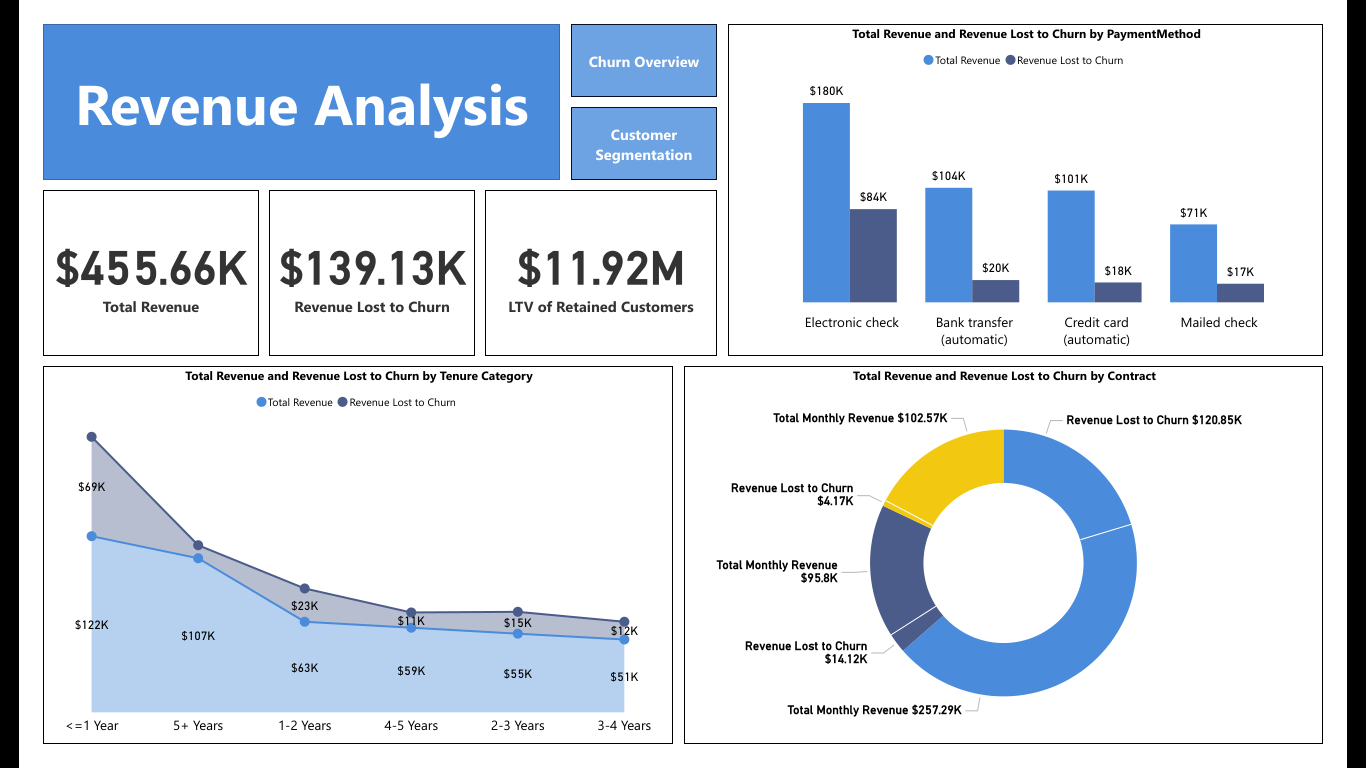

The page's visual inventory and layout, read from the dashboard file:
{"tool":"powerbi","page":{"name":"Revenue Analysis","canvas":[1280,720],"ordinal":2},"visuals":[{"type":"stackedAreaChart","title":"Total Revenue and Revenue Lost to Churn by Tenure Category","fields":{"Category":["ChurnDataTable.Tenure Category"],"Y":["MeasuresTable.Total Monthly Revenue","MeasuresTable.Revenue Lost to Churn"]},"box":[0,342.4,630.4,377.6],"z":0},{"type":"donutChart","title":"Total Revenue and Revenue Lost to Churn by Contract","fields":{"Category":["ChurnDataTable.Contract"],"Y":["MeasuresTable.Revenue Lost to Churn","MeasuresTable.Total Monthly Revenue"]},"box":[640.7,342.4,639.2,377.6],"z":1000},{"type":"clusteredColumnChart","fields":{"Category":["ChurnDataTable.PaymentMethod"],"Y":["MeasuresTable.Total Monthly Revenue","MeasuresTable.Revenue Lost to Churn"]},"box":[684.7,0,595.1,332.1],"z":2000},{"type":"card","fields":{"Values":["MeasuresTable.Total Monthly Revenue"]},"box":[0,166,216,166],"z":3000},{"type":"card","fields":{"Values":["MeasuresTable.Revenue Lost to Churn"]},"box":[226.3,166,205.7,166],"z":4000},{"type":"card","fields":{"Values":["MeasuresTable.LTV of Retained Customers"]},"box":[442.3,166,232.2,166],"z":5000},{"type":"shape","box":[0,0,517.2,155.8],"z":6000},{"type":"pageNavigator","box":[527.5,0,146.9,155.8],"z":7000}]}

Visuals, with their boxes in screenshot pixels (x1, y1, x2, y2), scaled from the page's 1280x720 canvas onto the 1366x768 screenshot:
"Total Revenue and Revenue Lost to Churn by Tenure Category" stackedAreaChart: bbox=(0, 365, 673, 767)
"Total Revenue and Revenue Lost to Churn by Contract" donutChart: bbox=(684, 365, 1365, 767)
clusteredColumnChart - ChurnDataTable.PaymentMethod x MeasuresTable.Total Monthly Revenue: bbox=(731, 0, 1365, 354)
card - MeasuresTable.Total Monthly Revenue: bbox=(0, 177, 231, 354)
card - MeasuresTable.Revenue Lost to Churn: bbox=(242, 177, 461, 354)
card - MeasuresTable.LTV of Retained Customers: bbox=(472, 177, 720, 354)
shape: bbox=(0, 0, 552, 166)
pageNavigator: bbox=(563, 0, 720, 166)
